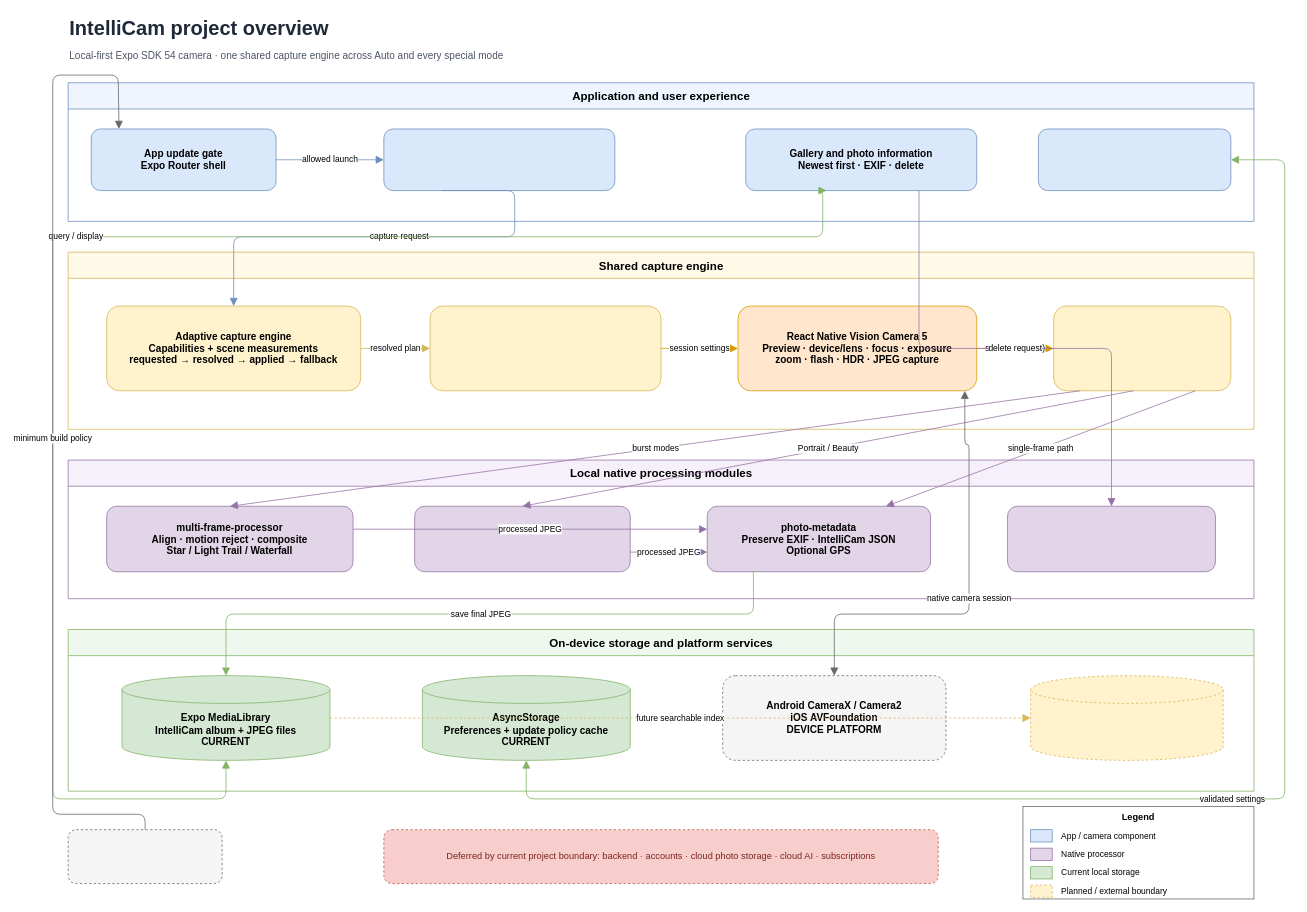
Some shapes in this 1307 by 912 pixel diagram are drawn without their labels. The shapes that lost their labels are listed below. From the top down, each one's box as (x1, y1, x2, y2) in pixels, then its label:
(383, 128, 615, 191): Shared camera screen Auto + mode swiper + controls
(1038, 128, 1231, 191): Camera preferences Grid · ratio · timer · sound · HDR
(429, 305, 661, 391): Mode strategies Auto · Star · Light Trail · Waterfall Beauty · Product
(1053, 305, 1231, 391): Shared post-capture queue Crop · process · metadata · save Thumbnail refresh
(414, 506, 630, 572): portrait-effect ML Kit Android Vision/Core Image iOS
(1007, 506, 1215, 572): media-trash Recoverable Android deletion
(1030, 675, 1223, 760): SQLite metadata index photos · presets · edits · sessions PLANNED
(67, 829, 222, 884): Public HTTPS app-update.json
